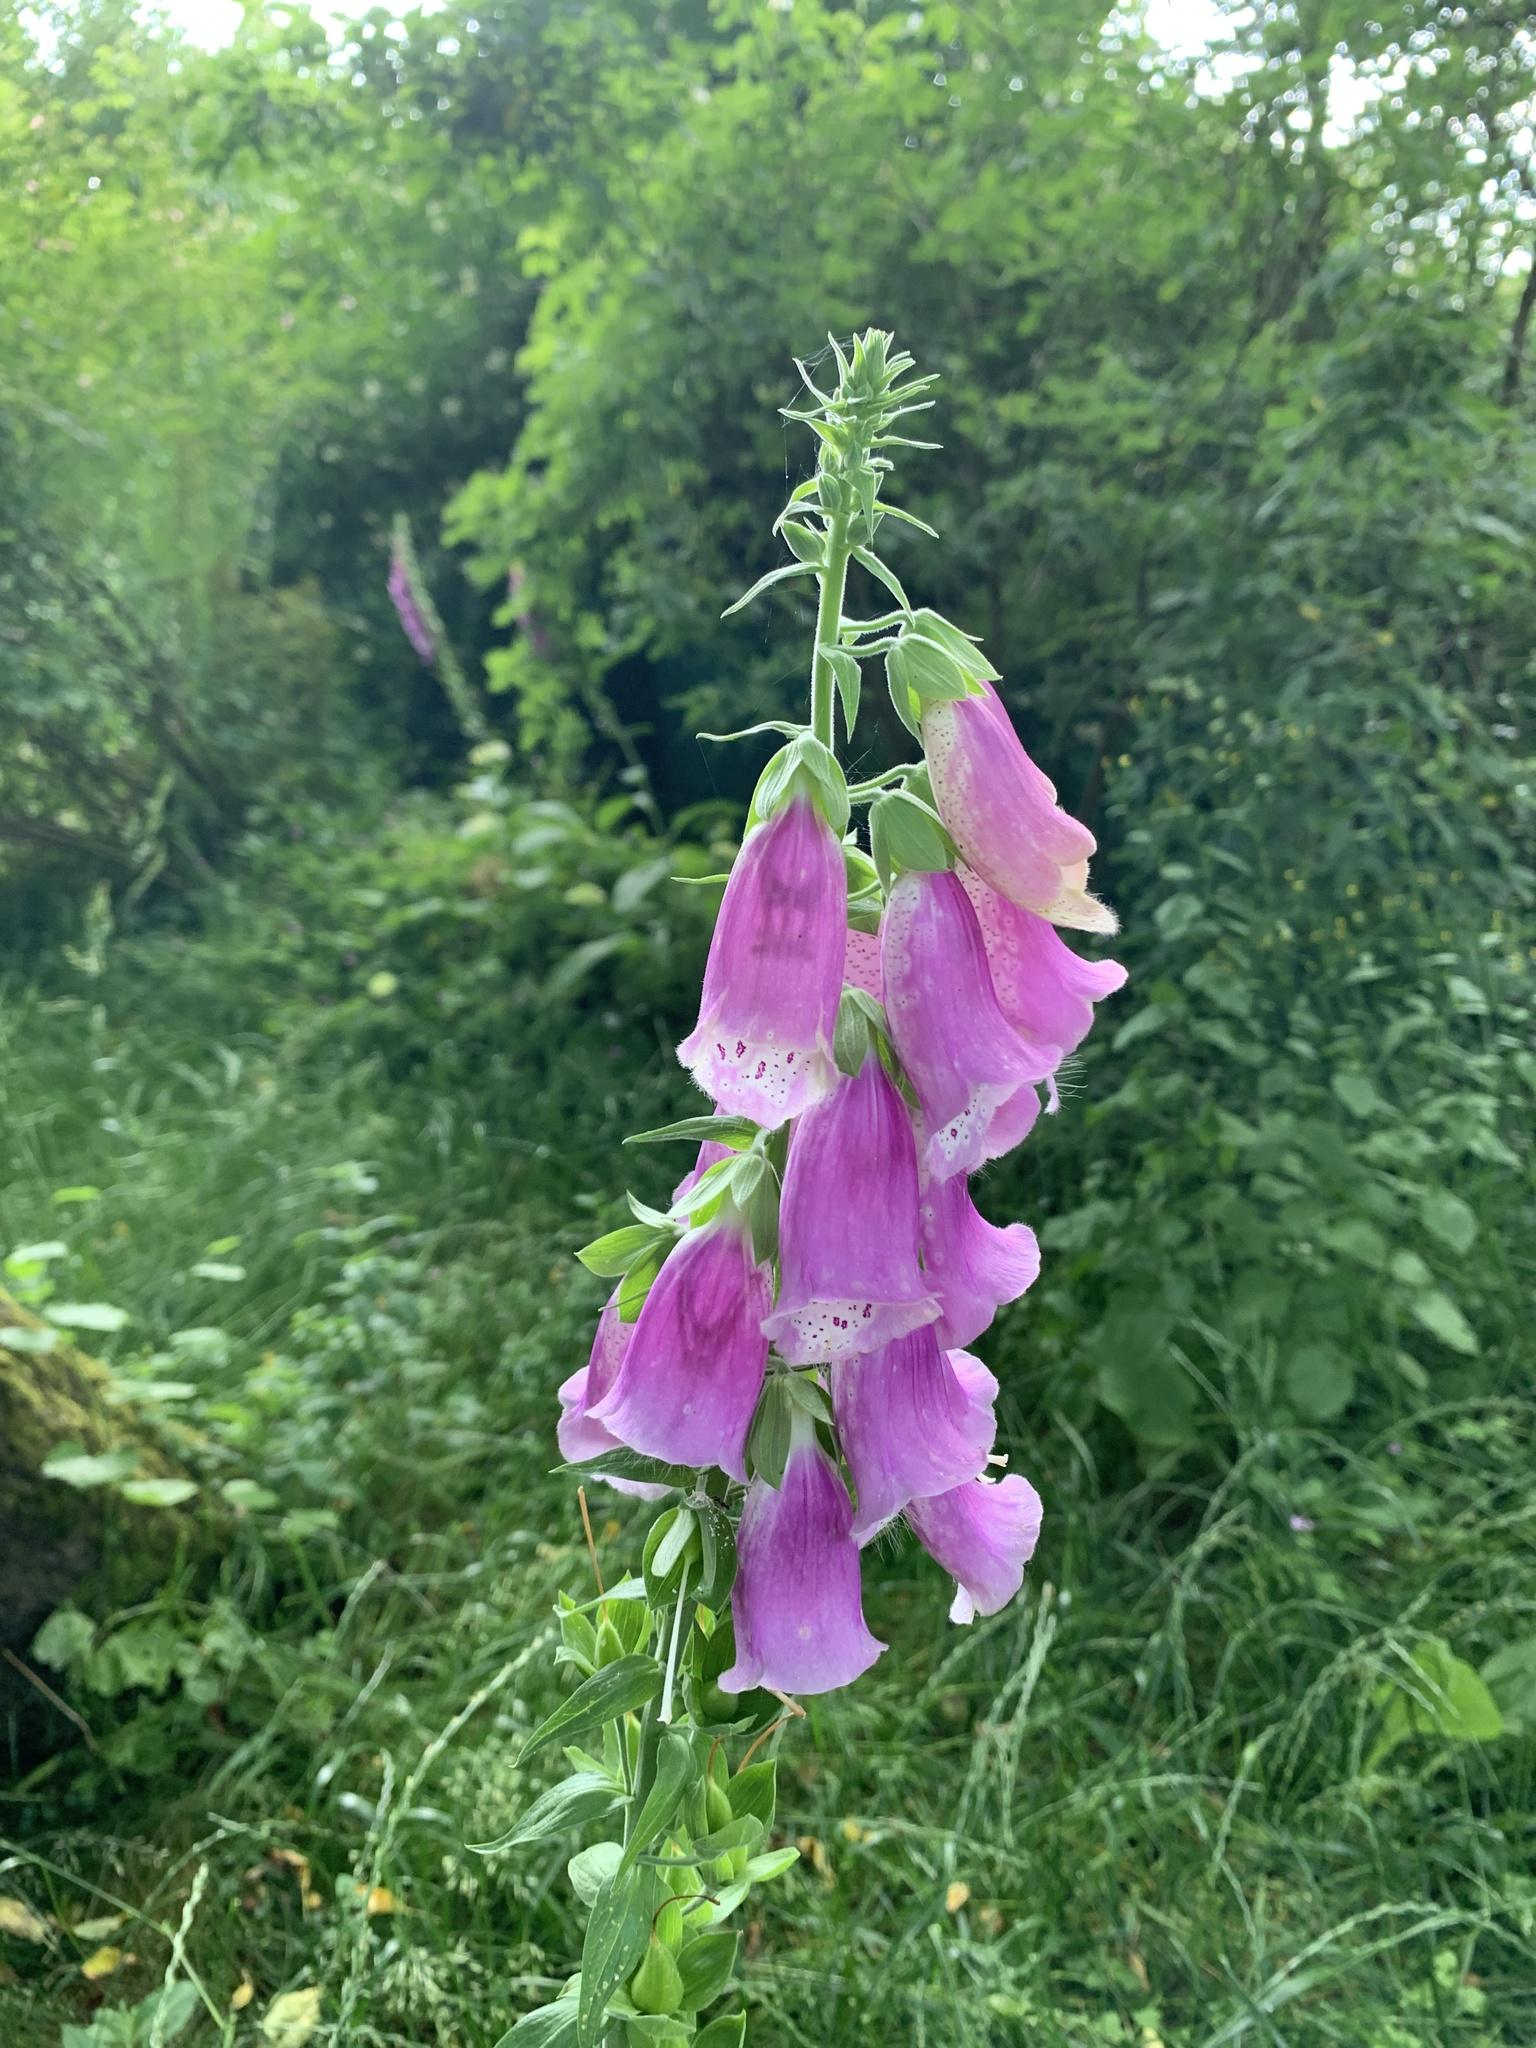Digitalis L: (516, 331, 1133, 1690)
